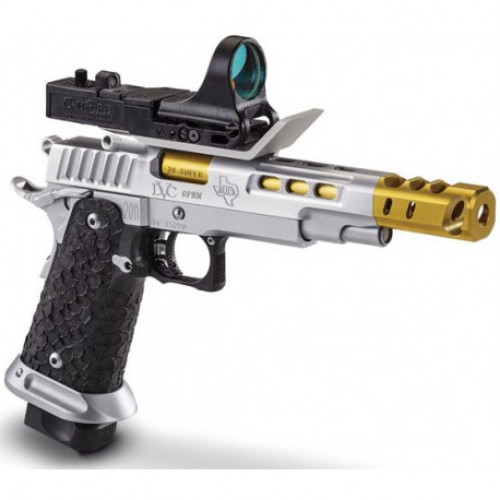Arma Falsa: (1, 34, 500, 464)
